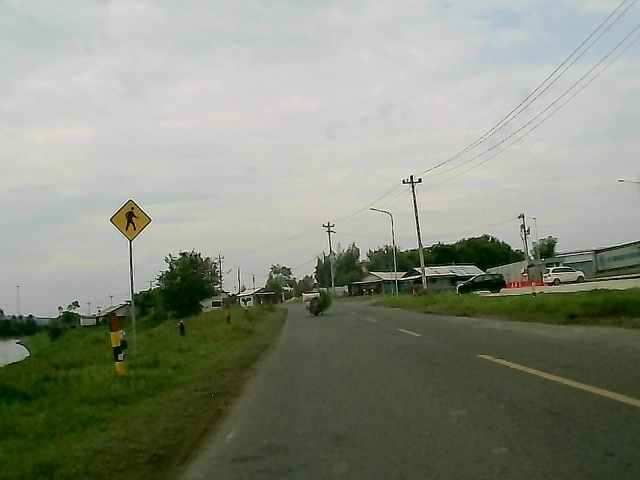Peringatan orang menyeberang: (104, 198, 156, 245)
